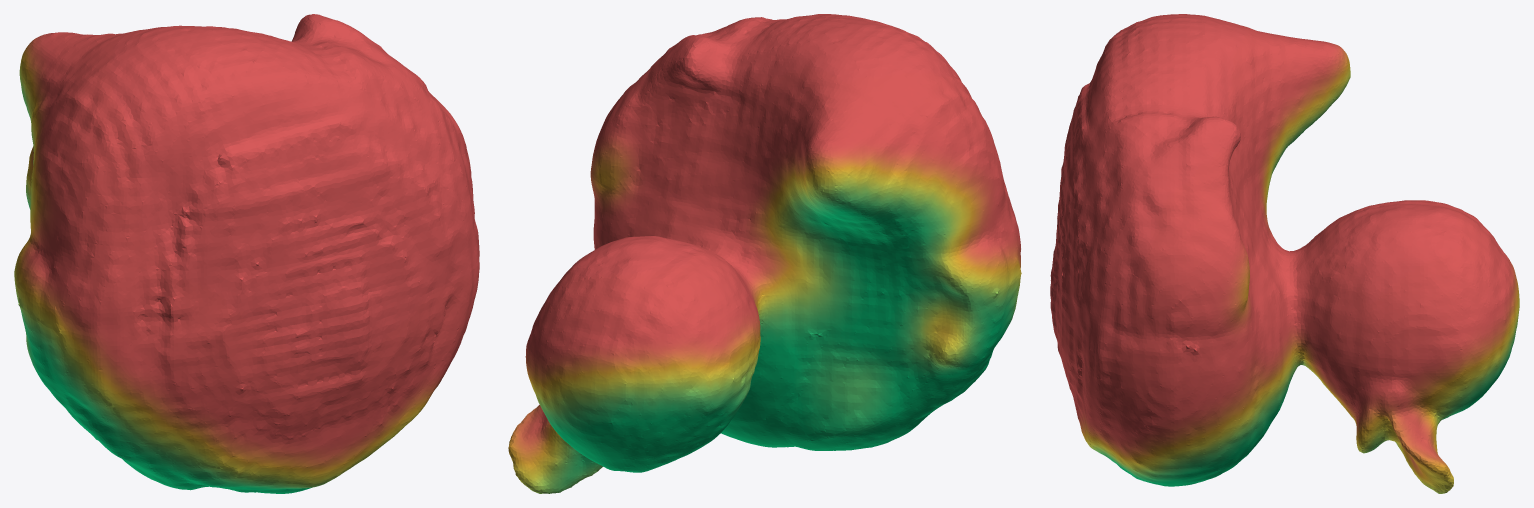
The model's file is duckycon.glb.
3 views of the same model, side by side, from view 1: azimuth 30°, elevation 25°; view 2: azimuth 150°, elevation 25°; view 3: azimuth 270°, elevation 25° (orthographic). The views are drawn at different scales.
Visible parts, largest first — view 1: Screenshot_2026-10-08_020930.obj; view 2: Screenshot_2026-10-08_020930.obj; view 3: Screenshot_2026-10-08_020930.obj.
Part boxes in pixels (x1=…): Screenshot_2026-10-08_020930.obj: x1=14, y1=14, x2=479, y2=493; Screenshot_2026-10-08_020930.obj: x1=508, y1=14, x2=1021, y2=493; Screenshot_2026-10-08_020930.obj: x1=1050, y1=14, x2=1519, y2=493.
Bounding box in the file's own units: 1.83 × 1.84 × 1.95.
